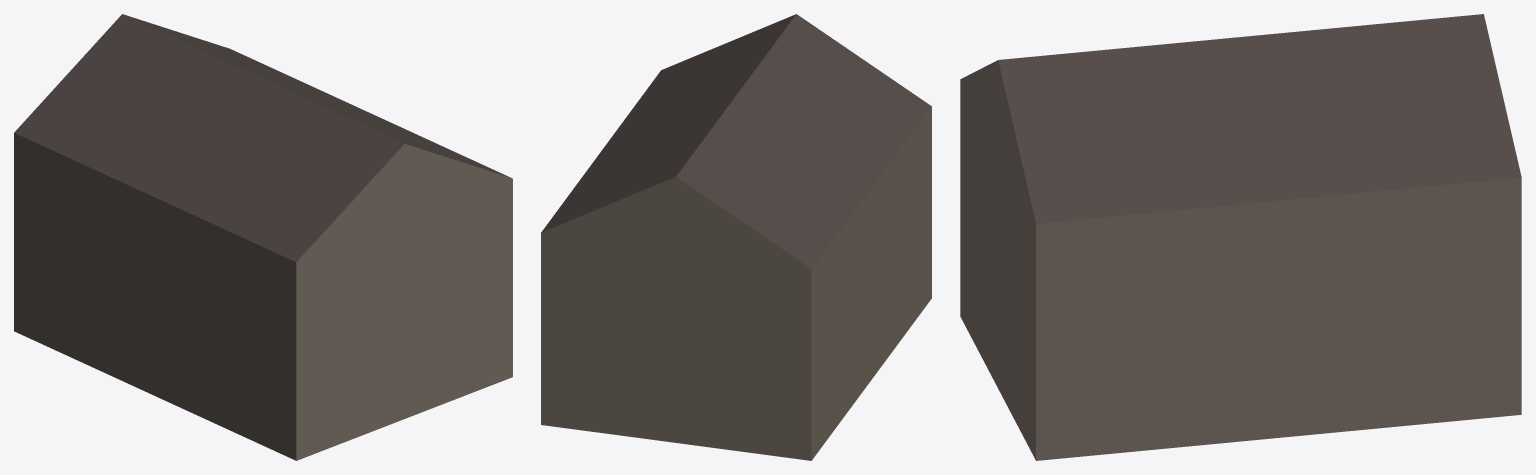
3 renders of one model, left to right at view 1: azimuth 30°, elevation 25°; view 2: azimuth 150°, elevation 25°; view 3: azimuth 270°, elevation 25°, orthographic. The views are drawn at different scales.
Parts seen in each view (by area): view 1: HP-w1376988818; view 2: HP-w1376988818; view 3: HP-w1376988818.
Part boxes in pixels (<box>): HP-w1376988818: <box>14,14,512,460</box>; HP-w1376988818: <box>541,14,931,460</box>; HP-w1376988818: <box>960,14,1521,460</box>.
Size of the model in its own units: 10.35 by 8.32 by 12.88.
